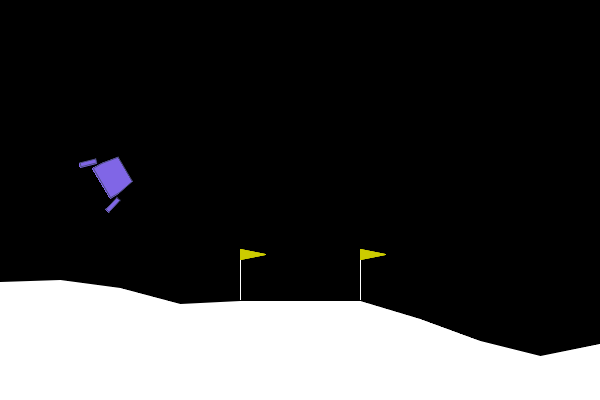lander: (77, 143, 142, 215)
